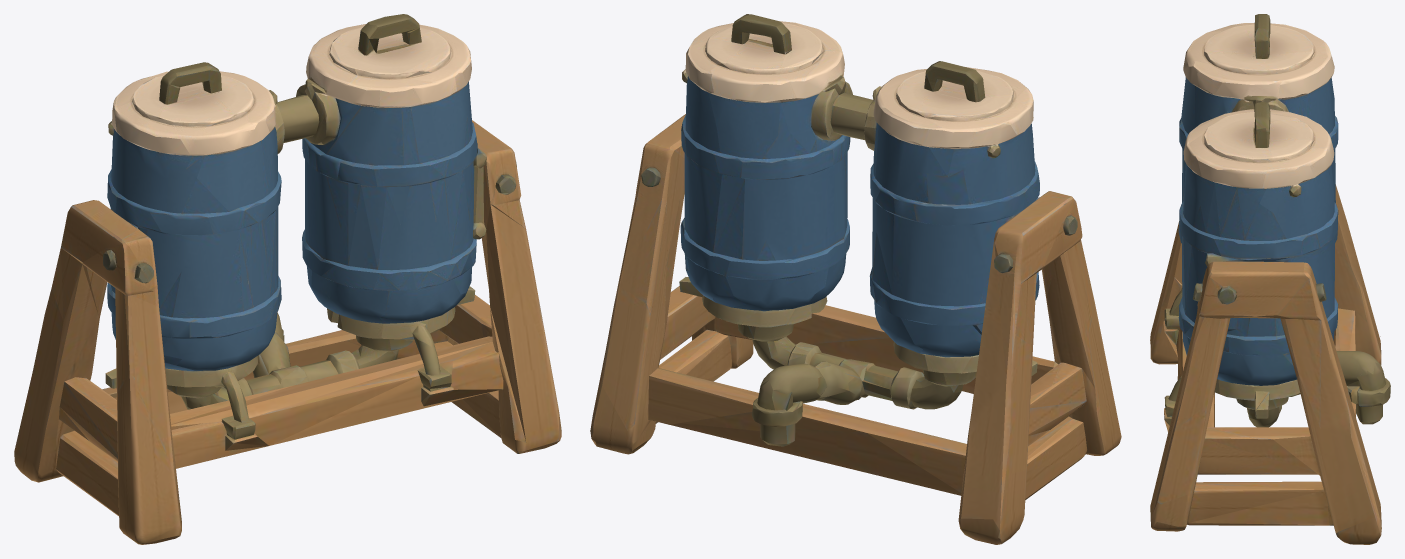
File: barrelRack.glb
3 renders of one model, left to right at view 1: azimuth 30°, elevation 25°; view 2: azimuth 150°, elevation 25°; view 3: azimuth 270°, elevation 25°, orthographic. The views are drawn at different scales.
Parts seen in each view (by area): view 1: Mesh_0; view 2: Mesh_0; view 3: Mesh_0.
Part boxes in pixels (x1=…): Mesh_0: x1=14, y1=14, x2=561, y2=544; Mesh_0: x1=590, y1=14, x2=1121, y2=544; Mesh_0: x1=1150, y1=14, x2=1390, y2=544.
Size of the model in its own units: 1.5 by 1.43 by 0.8011.
1 material, 1 textured.
